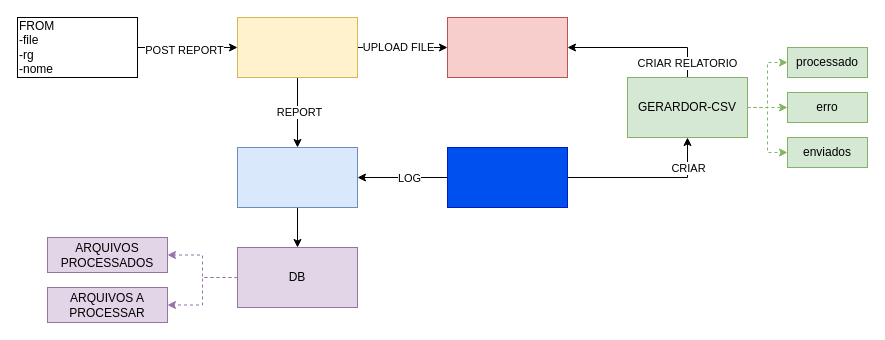
The diagram is 885 pixels wide and 340 high, and some of its shapes have lost their labels. The shapes that lost their labels are listed below. From the top down, each one's centre as x and y in pixels, then its label:
point (297, 47): API
point (507, 47): STORE
point (297, 177): REGISTRA
point (507, 177): PROCESSADOR
